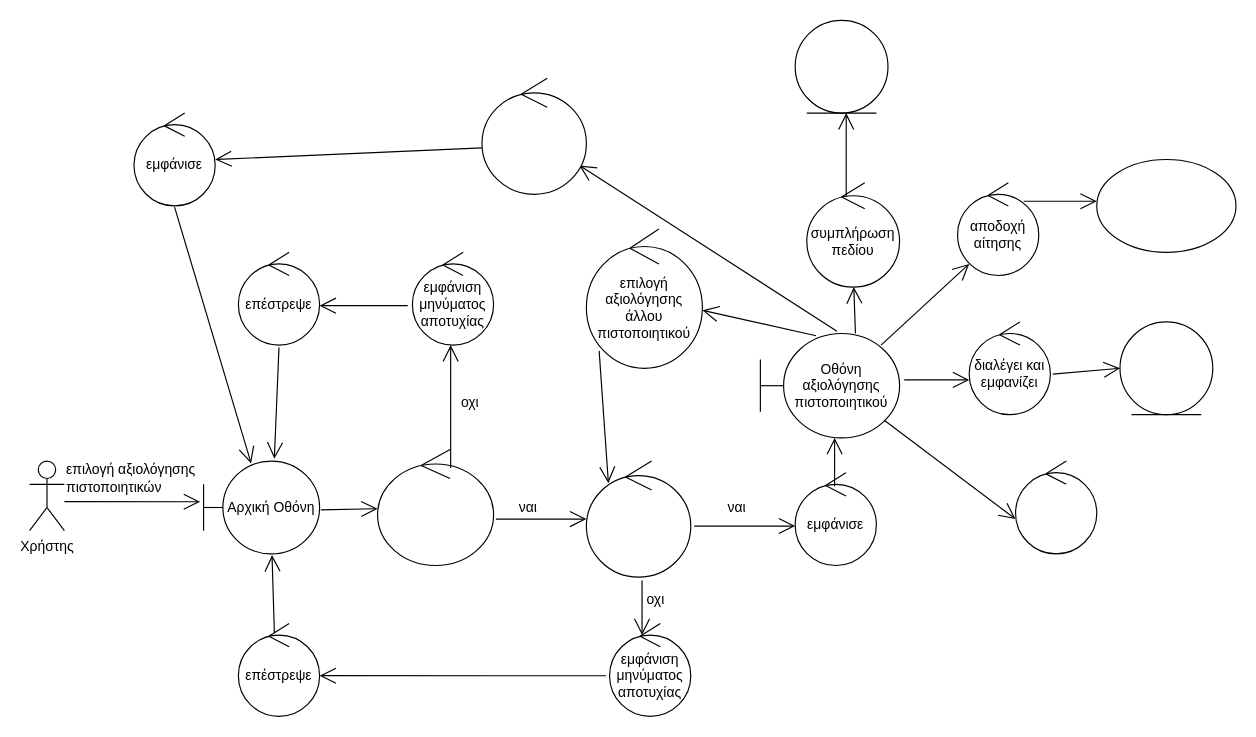
Image size: 1256x737. Some labels were removed from this diagram. The box of each missing label's shape, as (x1, y1, x2, y2) in pixels:
Upload Data Use Case: (1096, 158, 1236, 252)
έλεγχος αν ο χρήστης έχει το δικαίωμα αξιολόγησης: (376, 448, 494, 566)
έλεγχος αν υπάρχει αίτηση προς αξιολόγηση: (585, 460, 691, 577)
απόρριψη αίτησης: (1014, 460, 1097, 554)
επιλογή έξοδος από την οθόνη αξιολόγησης: (481, 77, 586, 194)
ημερομηνία επιβεβαίωσης ασθένειας: (794, 19, 888, 113)
Πιστοποιητικό: (1119, 321, 1213, 415)
